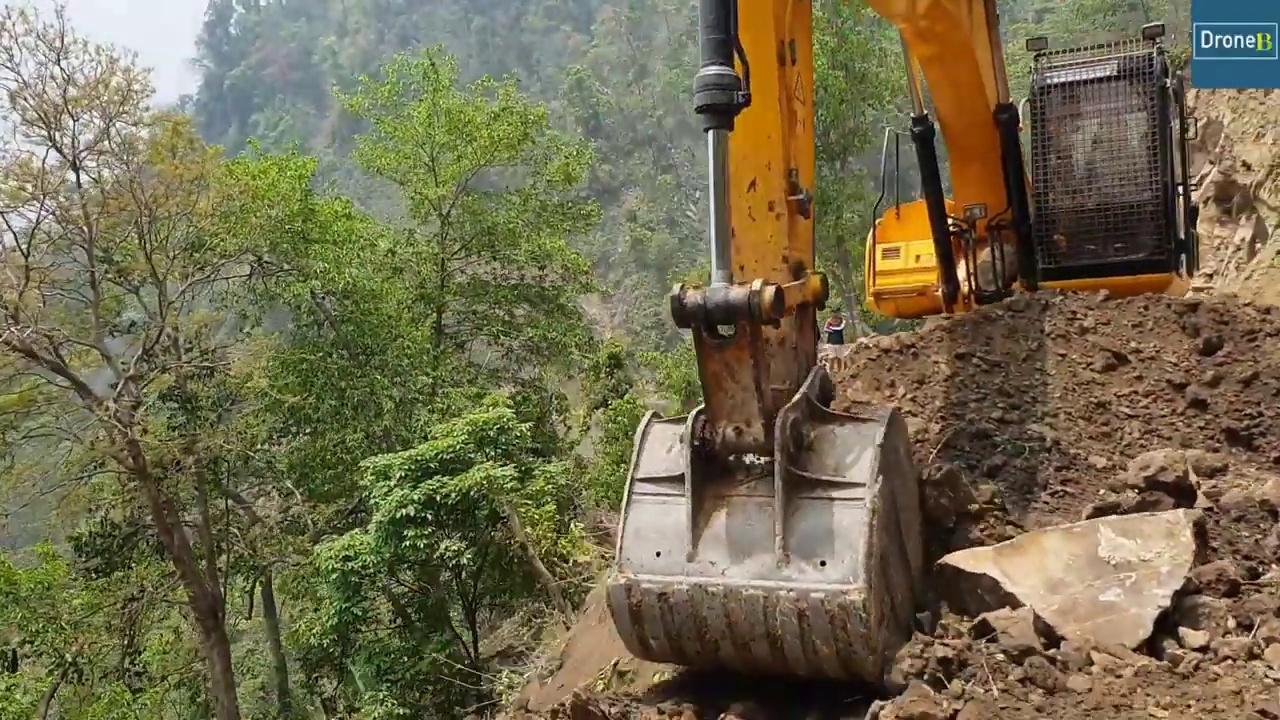excavator: (607, 2, 1201, 682)
